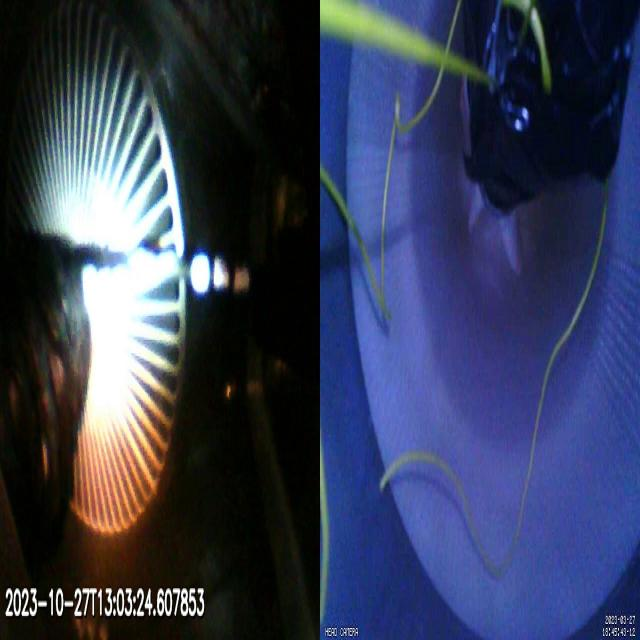white-dots: (190, 254, 250, 294)
